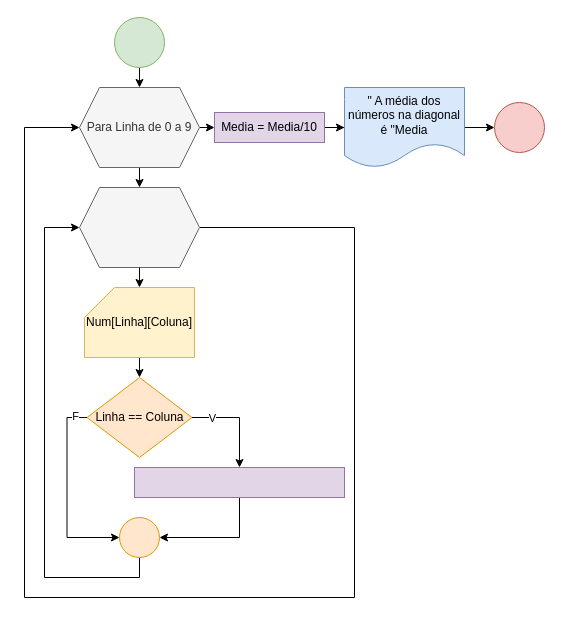
Image size: 562x623. Some labels were removed from this diagram. The shapes that lost their labels are listed below. From the top down, each one's box as (x1, y1, x2, y2) in pixels, then its label:
(78, 186, 200, 268): Para Coluna de 0 a 9
(134, 466, 344, 498): Media = Num[Linha][Coluna] + Media
